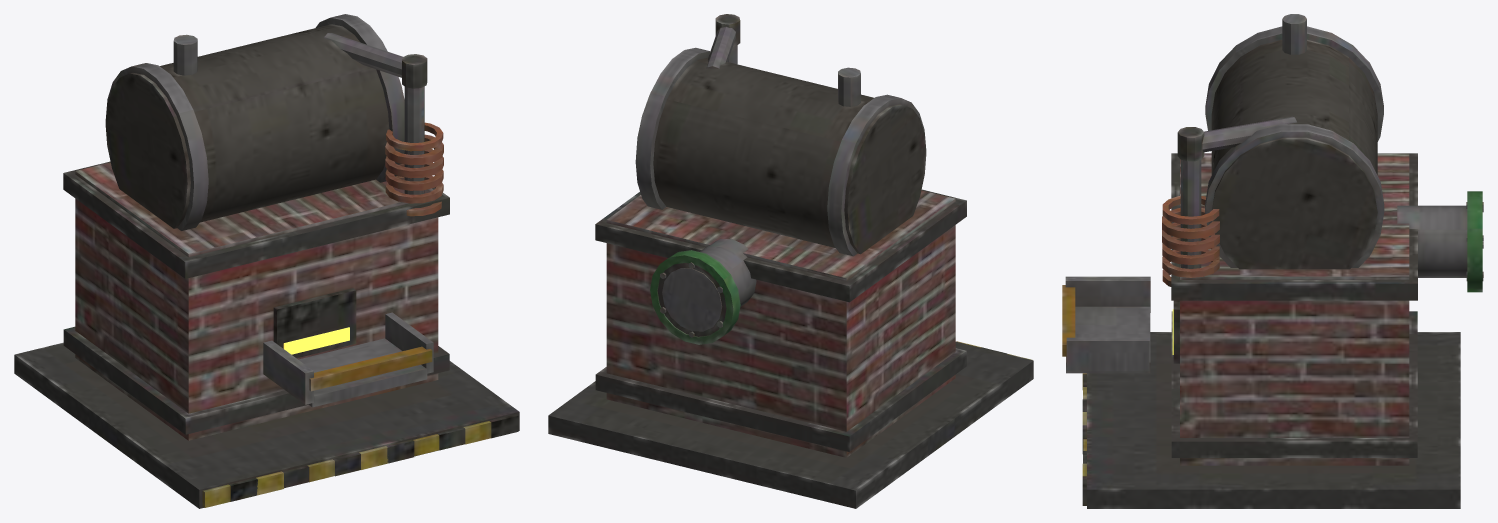
File: feShaleRetort.glb
The picture shows the model from 3 angles, left to right: view 1: azimuth 30°, elevation 25°; view 2: azimuth 150°, elevation 25°; view 3: azimuth 270°, elevation 25°; orthographic projection. The views are drawn at different scales.
Parts seen in each view (by area): view 1: feShaleRetort_Base; view 2: feShaleRetort_Base; view 3: feShaleRetort_Base.
Boxes of the visible parts, x1,y1,x2,y2 form: feShaleRetort_Base: (14, 14, 519, 508); feShaleRetort_Base: (548, 14, 1033, 508); feShaleRetort_Base: (1062, 14, 1483, 508).
Bounding box in the file's own units: 0.9012 × 1 × 1.02.
Materials: 2 (1 with a texture image).
